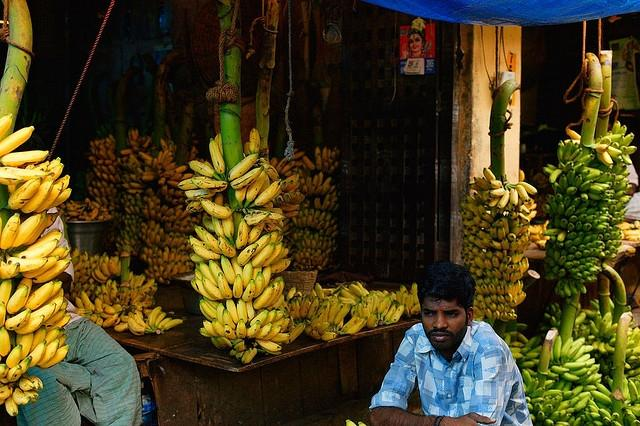banana: (6, 214, 41, 253), (20, 179, 54, 214), (8, 176, 43, 210), (32, 181, 65, 214), (0, 126, 35, 157), (247, 178, 283, 208), (226, 152, 260, 182), (11, 238, 59, 258), (24, 280, 54, 310), (0, 150, 50, 168), (5, 252, 48, 272), (244, 169, 266, 208), (1, 166, 54, 182), (0, 213, 20, 254), (230, 166, 264, 190), (24, 209, 46, 244), (199, 198, 235, 219), (40, 345, 70, 369), (212, 216, 234, 247), (209, 138, 225, 180), (7, 285, 30, 314), (189, 160, 222, 180), (38, 281, 62, 308), (246, 208, 288, 223), (190, 177, 230, 192), (250, 172, 270, 202), (15, 314, 44, 334), (42, 308, 68, 330), (46, 188, 72, 210), (253, 284, 275, 310), (30, 302, 56, 324), (5, 308, 31, 330), (28, 340, 48, 368), (40, 163, 64, 185), (202, 229, 223, 254), (262, 242, 283, 267), (237, 243, 259, 266), (222, 214, 236, 249), (262, 281, 280, 308), (333, 304, 350, 332), (253, 233, 272, 258), (336, 313, 359, 333), (221, 255, 236, 285), (268, 278, 284, 306), (258, 162, 280, 182), (247, 223, 266, 246), (208, 260, 226, 284), (560, 337, 574, 367), (12, 383, 31, 405), (564, 342, 582, 365), (509, 182, 538, 196), (6, 344, 22, 369), (508, 184, 530, 202), (20, 332, 34, 360), (1, 259, 20, 279), (218, 272, 232, 299), (0, 113, 14, 140), (255, 338, 282, 352), (236, 218, 248, 249), (185, 189, 216, 201), (241, 260, 253, 290), (80, 290, 96, 312), (0, 279, 12, 308), (328, 300, 342, 324), (378, 296, 392, 320), (241, 280, 256, 302), (496, 184, 509, 209), (236, 297, 248, 324), (134, 310, 152, 328), (0, 172, 23, 186), (149, 306, 162, 330), (248, 128, 260, 154), (253, 272, 265, 298), (222, 308, 236, 330), (45, 327, 61, 346), (572, 396, 592, 411), (260, 310, 276, 328), (232, 253, 244, 276), (506, 184, 518, 207), (569, 345, 585, 362), (7, 364, 22, 382), (616, 133, 634, 148), (5, 396, 18, 416), (595, 401, 612, 416), (349, 283, 364, 300), (465, 200, 480, 217), (381, 298, 392, 321), (526, 378, 540, 396), (563, 139, 573, 164), (247, 320, 260, 339), (232, 274, 242, 298), (316, 305, 328, 325), (568, 385, 584, 400), (162, 319, 183, 330), (300, 296, 310, 319), (280, 160, 296, 174), (489, 185, 506, 198), (290, 298, 300, 320), (268, 333, 290, 343), (384, 304, 396, 322), (590, 320, 602, 338), (554, 278, 566, 296), (569, 367, 590, 377), (320, 301, 330, 322), (216, 303, 225, 326), (203, 296, 220, 308), (574, 163, 586, 180), (236, 318, 246, 338), (525, 336, 539, 350), (272, 314, 286, 328), (517, 223, 530, 238), (304, 155, 316, 171), (598, 319, 608, 338), (500, 216, 510, 235), (255, 208, 282, 215), (155, 312, 166, 329), (483, 166, 496, 180), (318, 322, 332, 335), (546, 397, 558, 412), (522, 369, 532, 387), (356, 281, 366, 299), (321, 162, 329, 184), (598, 342, 609, 358), (563, 279, 572, 298), (366, 312, 376, 329), (102, 304, 119, 314), (315, 147, 322, 171), (580, 374, 595, 385), (287, 286, 296, 304), (604, 134, 624, 142), (497, 323, 507, 339), (555, 401, 571, 411), (574, 280, 586, 293), (282, 180, 294, 193), (541, 228, 563, 235), (473, 213, 482, 230), (608, 146, 623, 156), (291, 194, 306, 204), (572, 174, 582, 189), (68, 208, 84, 217), (616, 182, 628, 194), (588, 398, 600, 410), (544, 390, 562, 398), (129, 154, 141, 166), (362, 303, 371, 319), (109, 260, 118, 276), (510, 224, 522, 236), (522, 352, 540, 360), (321, 183, 332, 196), (582, 345, 595, 356), (324, 295, 337, 306), (474, 192, 484, 206), (114, 322, 128, 332), (488, 196, 502, 206), (110, 314, 120, 328), (570, 142, 580, 156), (595, 151, 605, 165), (584, 166, 601, 174), (574, 354, 591, 362), (160, 149, 169, 164), (175, 244, 187, 255), (480, 189, 490, 202), (282, 210, 298, 218), (102, 260, 110, 276), (573, 207, 587, 216), (614, 222, 632, 229), (289, 180, 300, 191), (570, 197, 581, 208), (244, 142, 252, 157), (518, 332, 528, 344), (565, 206, 575, 218), (480, 237, 492, 247), (154, 162, 164, 174), (164, 162, 176, 172), (318, 211, 327, 224), (484, 258, 493, 271), (336, 318, 344, 332), (588, 192, 602, 200), (160, 138, 168, 152), (175, 208, 183, 222), (467, 234, 478, 244), (475, 285, 485, 296), (146, 188, 155, 200), (338, 296, 356, 302), (586, 208, 598, 217), (592, 340, 601, 352), (594, 309, 601, 324), (306, 213, 313, 228), (167, 180, 180, 188), (498, 227, 506, 240), (570, 272, 583, 280), (214, 259, 222, 272), (141, 176, 158, 182), (597, 224, 607, 234), (180, 210, 190, 220), (101, 166, 111, 176), (493, 250, 503, 260), (562, 382, 572, 392), (515, 239, 524, 250), (71, 255, 80, 266), (165, 208, 176, 217), (135, 166, 144, 177), (324, 226, 333, 237), (109, 288, 116, 302), (73, 270, 80, 284), (528, 225, 540, 233), (489, 282, 497, 294), (584, 215, 596, 223), (106, 278, 112, 294), (80, 267, 88, 279), (304, 324, 312, 336), (115, 172, 123, 184), (302, 182, 308, 198), (94, 177, 102, 189), (626, 356, 638, 364), (0, 376, 12, 384), (357, 300, 362, 319), (401, 291, 408, 304), (491, 293, 498, 306), (557, 202, 564, 215), (314, 196, 321, 209), (485, 269, 495, 278), (626, 340, 636, 349), (544, 256, 554, 265), (634, 380, 640, 395), (130, 274, 136, 289), (572, 237, 582, 246), (301, 213, 307, 228), (95, 149, 104, 159), (560, 218, 568, 229), (174, 196, 185, 204), (504, 292, 512, 303), (503, 270, 510, 282), (510, 342, 524, 348), (309, 184, 315, 198), (98, 292, 105, 304), (100, 312, 114, 318), (520, 259, 526, 273), (346, 419, 358, 426), (163, 249, 169, 263), (331, 203, 340, 212), (630, 331, 639, 340), (507, 264, 515, 274), (506, 299, 516, 307), (172, 224, 180, 234), (130, 172, 138, 182), (82, 282, 90, 292), (604, 200, 614, 208), (129, 204, 137, 214), (108, 165, 116, 175), (474, 268, 484, 276), (610, 412, 620, 420), (106, 194, 114, 204), (516, 292, 522, 305), (514, 279, 520, 292), (396, 291, 402, 304), (180, 173, 193, 179), (112, 304, 123, 311), (322, 289, 333, 296), (108, 144, 115, 155), (292, 217, 299, 228), (144, 318, 151, 329), (601, 213, 613, 219), (310, 237, 316, 249), (298, 166, 304, 178), (314, 209, 320, 221), (583, 249, 591, 258), (308, 206, 314, 218), (146, 228, 152, 240), (120, 290, 125, 304), (129, 224, 136, 234), (505, 284, 512, 294), (140, 292, 147, 302), (460, 218, 470, 225), (330, 190, 337, 200), (485, 296, 492, 306), (591, 378, 601, 385), (322, 240, 328, 251), (102, 173, 110, 181), (551, 266, 559, 274), (586, 242, 594, 250), (140, 253, 147, 262), (577, 244, 586, 251), (591, 233, 598, 242), (94, 188, 100, 198), (318, 228, 324, 238), (87, 266, 92, 278), (626, 370, 636, 376), (162, 268, 167, 280), (554, 301, 560, 311), (578, 264, 586, 271), (566, 254, 574, 261), (145, 164, 152, 172), (633, 396, 640, 404), (609, 338, 616, 346), (168, 230, 175, 238), (512, 353, 523, 358), (150, 208, 155, 219), (176, 253, 182, 262), (116, 168, 122, 177), (134, 204, 140, 213), (159, 229, 163, 242), (328, 158, 333, 168), (142, 313, 152, 318), (94, 140, 100, 148), (268, 278, 276, 284), (332, 294, 338, 302), (310, 248, 316, 256), (317, 264, 325, 270), (96, 286, 102, 294), (120, 238, 126, 246), (572, 260, 580, 266), (130, 141, 139, 146), (121, 156, 128, 162), (616, 231, 622, 238), (84, 211, 90, 218), (319, 254, 323, 264), (467, 251, 475, 256), (334, 160, 338, 170), (576, 233, 584, 238), (145, 269, 150, 277), (175, 232, 181, 238), (508, 250, 514, 256), (154, 245, 158, 254), (614, 212, 620, 218), (109, 183, 114, 190), (152, 254, 159, 259), (147, 197, 152, 204), (92, 261, 96, 269), (496, 208, 500, 216), (553, 243, 557, 251), (308, 301, 312, 309), (604, 190, 612, 194), (100, 138, 105, 144), (84, 198, 90, 203), (101, 211, 108, 215), (306, 230, 310, 237), (297, 248, 301, 254), (304, 172, 308, 178), (606, 168, 612, 172), (144, 196, 148, 202), (88, 213, 94, 217), (370, 290, 375, 294), (522, 250, 524, 258), (118, 224, 122, 228), (114, 252, 119, 255)
